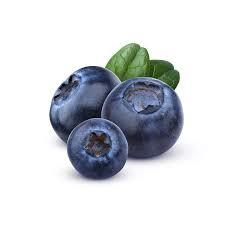bluebarry: (48, 42, 184, 179), (100, 76, 183, 158), (48, 65, 121, 143), (66, 117, 128, 179), (104, 42, 180, 90)
